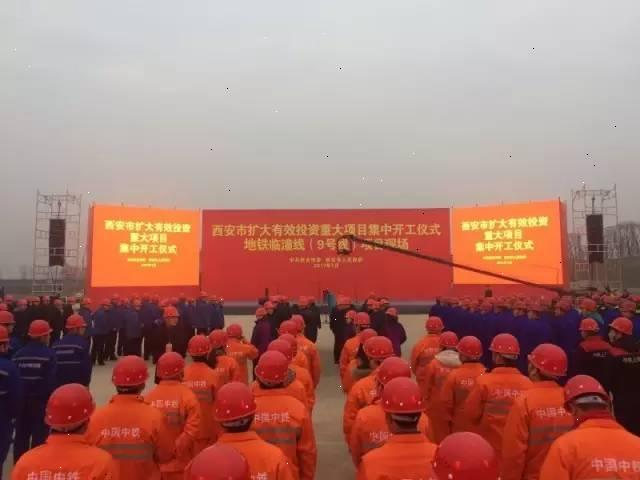helmet: (214, 376, 258, 434), (44, 383, 96, 431), (184, 447, 249, 480), (378, 377, 430, 418), (529, 342, 571, 376), (109, 355, 151, 388), (258, 350, 291, 385), (156, 352, 184, 382), (378, 356, 411, 381), (489, 332, 521, 357), (457, 334, 482, 358), (186, 334, 210, 356), (27, 318, 52, 339), (611, 316, 636, 334), (438, 330, 459, 349), (422, 315, 444, 333), (578, 315, 602, 331), (62, 314, 84, 330), (0, 309, 17, 326), (354, 312, 370, 326)
wear: (549, 429, 640, 480), (100, 399, 157, 478), (13, 439, 110, 480), (362, 443, 440, 480), (474, 368, 527, 422), (256, 394, 306, 451), (514, 388, 570, 438), (13, 342, 54, 393), (56, 333, 91, 380)
